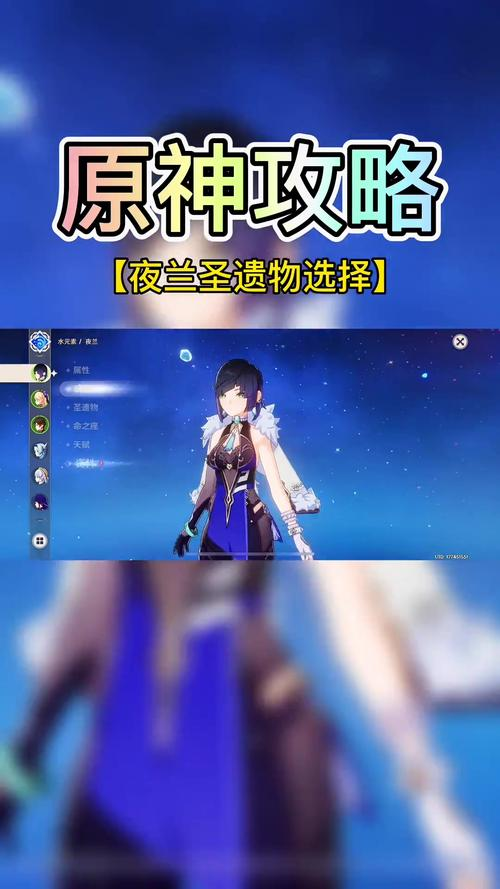夜兰: (172, 363, 320, 559)
